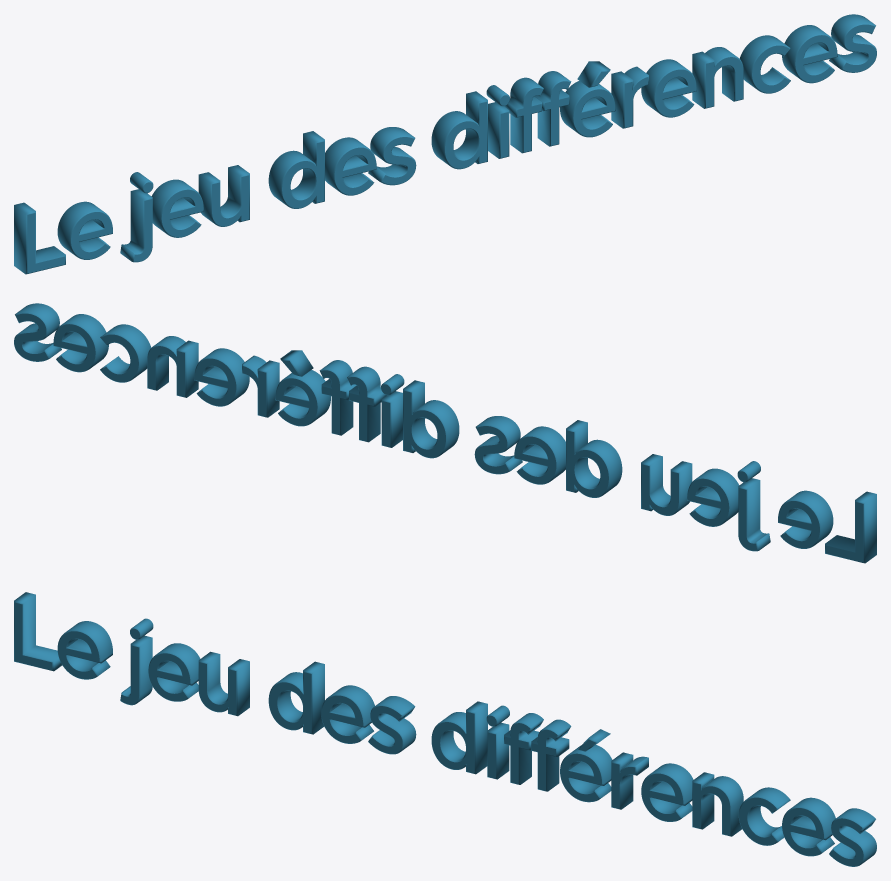
The model's file is game_title.glb.
The picture shows the model from 3 angles, top to bottom: view 1: azimuth 30°, elevation 25°; view 2: azimuth 150°, elevation 25°; view 3: azimuth 330°, elevation 25°; orthographic projection.
Visible parts, largest first — view 1: Le jeu des différences; view 2: Le jeu des différences; view 3: Le jeu des différences.
Boxes of the visible parts, box(x1,y1,x2,y2) form: Le jeu des différences: box(14, 14, 876, 274); Le jeu des différences: box(14, 303, 876, 563); Le jeu des différences: box(14, 592, 876, 866).
Size of the model in its own units: 5 by 0.4459 by 0.132.
